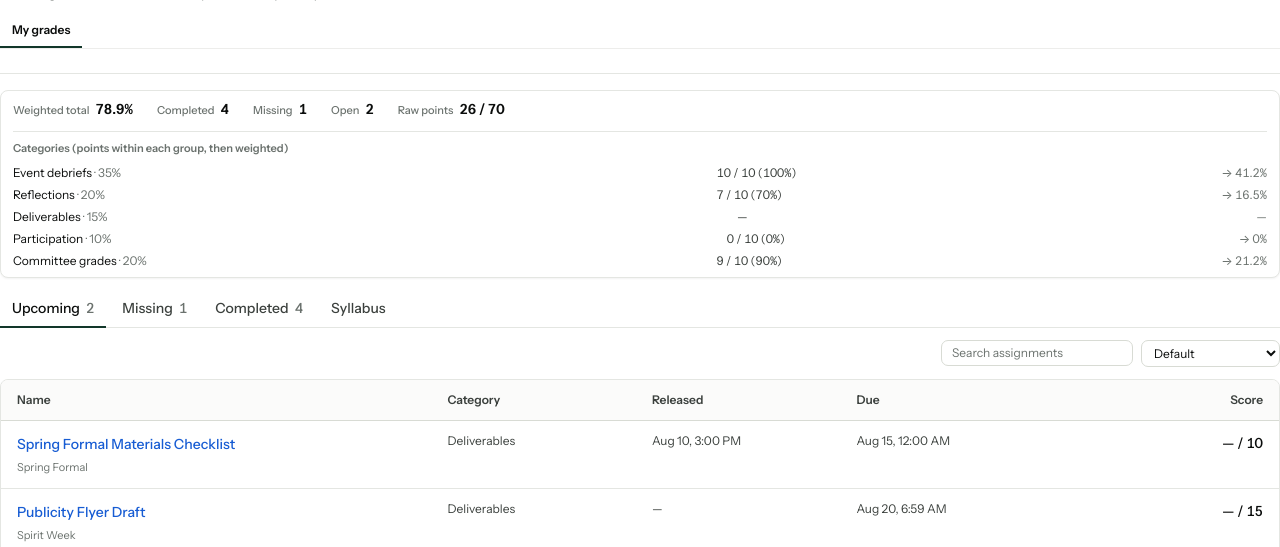
Scenario: GradesPage › renders score correctly
Click the tab "Completed4" at (259, 308), box x1=203 y1=290 x2=315 y2=328
(page scrolled)
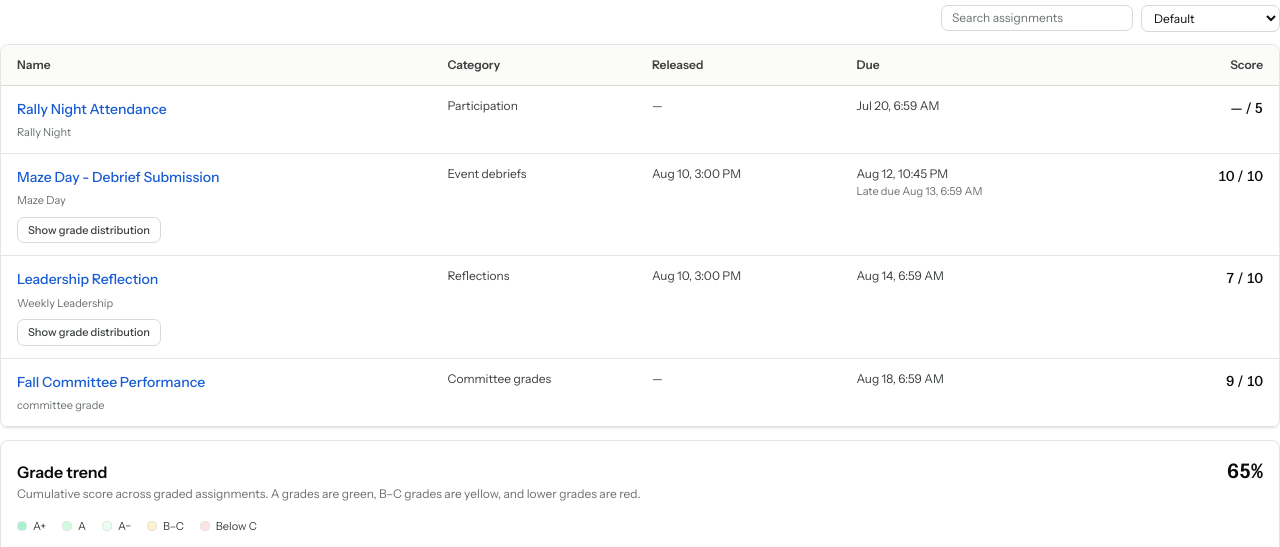
Result: the text "10 / 10" is shown at x1=1049 y1=153 x2=1279 y2=256
Result: the text "7 / 10" is shown at x1=1049 y1=256 x2=1279 y2=358
